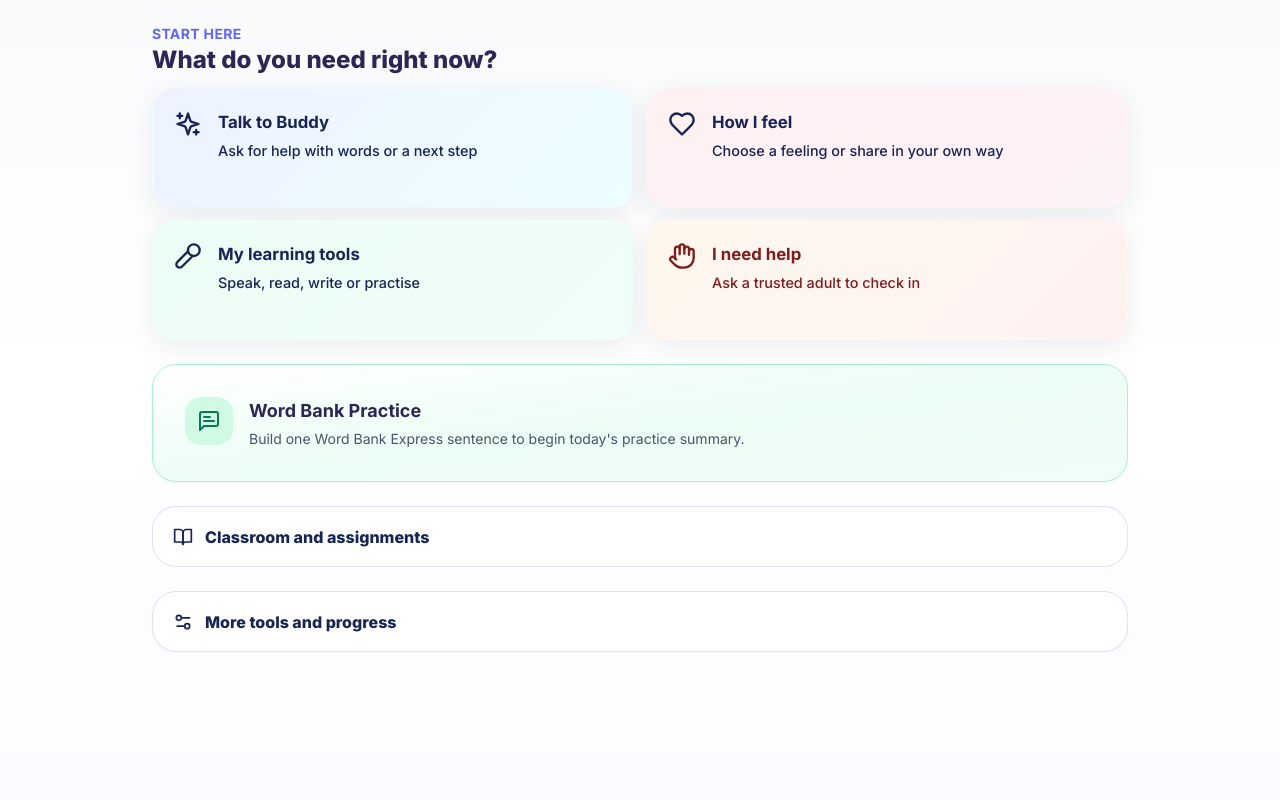
switching accounts closes the old tracing tool without awarding the new child
Click the heading "More tools and progress": (285, 622) left=173, top=612, right=396, bottom=632
(page scrolled)
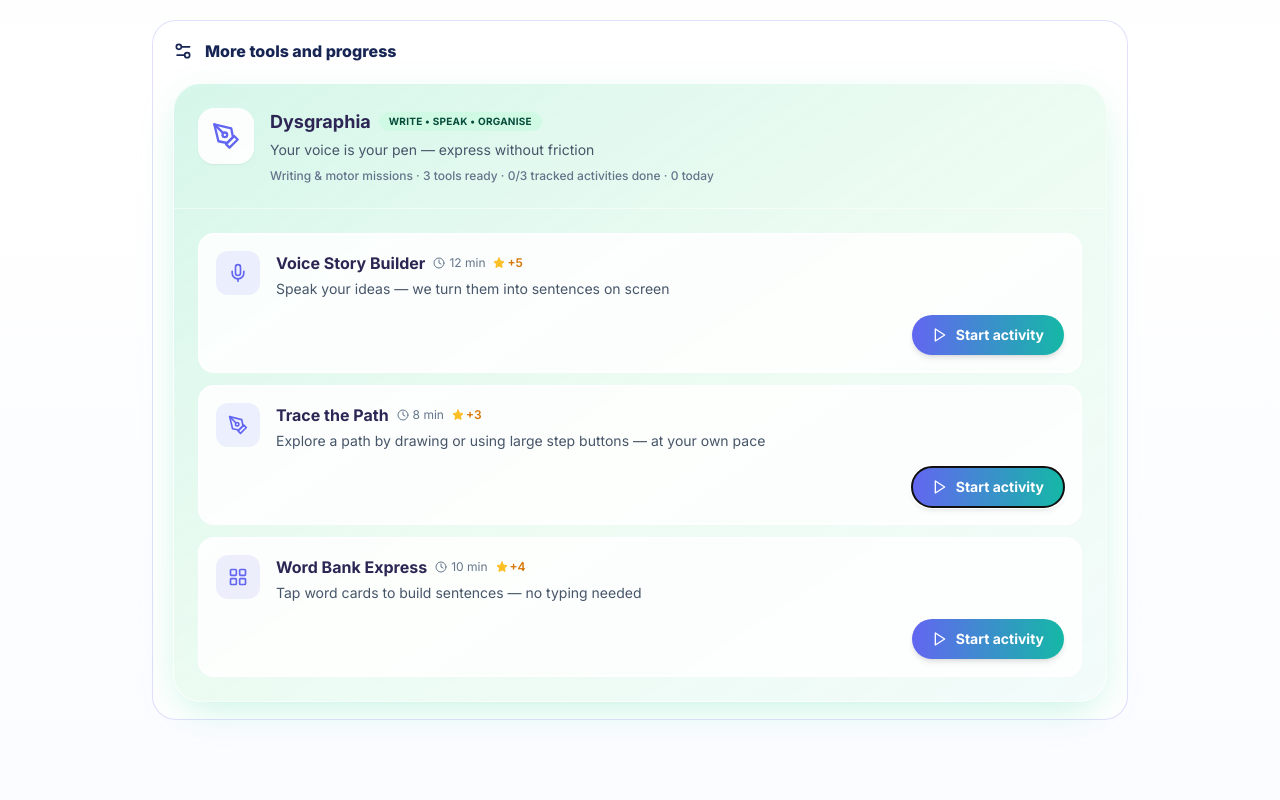
Click the 2nd button "Start activity": (988, 487) left=912, top=467, right=1064, bottom=507
(page scrolled)
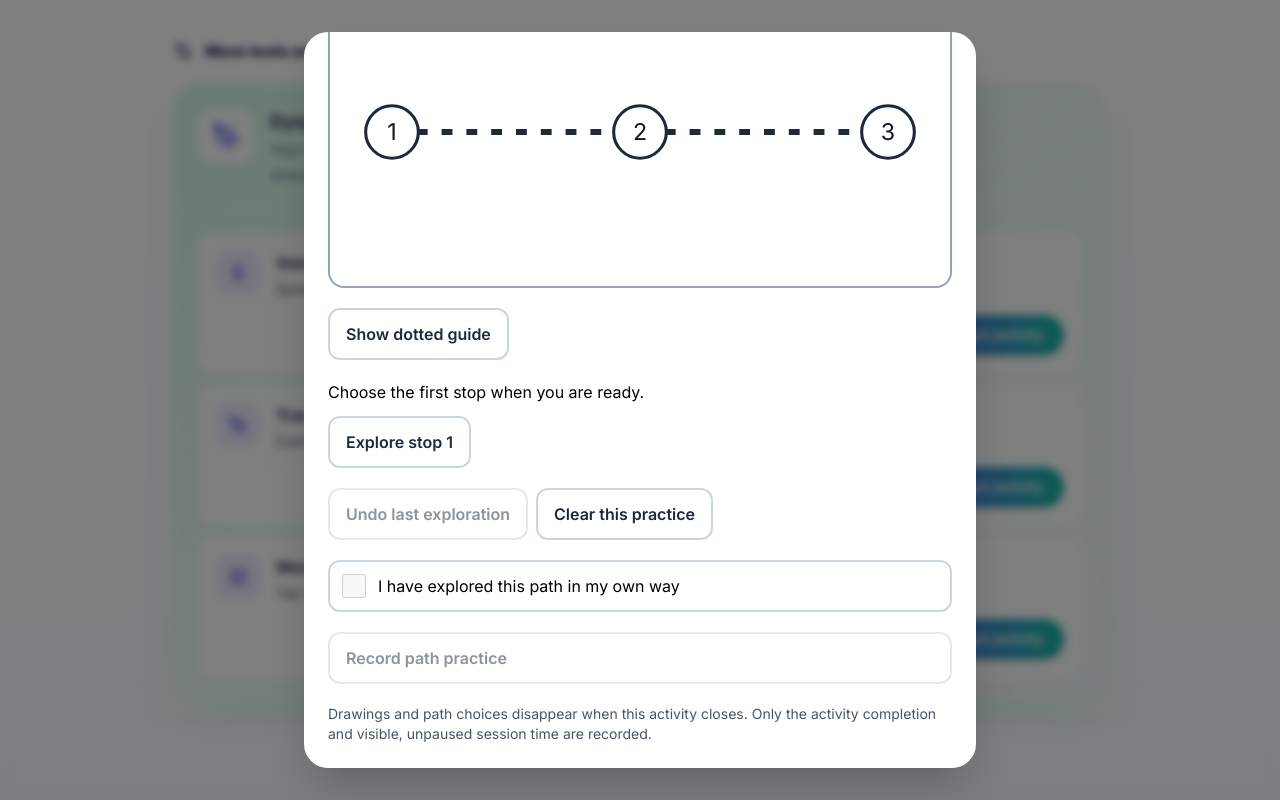
Check: the dialog is shown, box left=304, top=32, right=976, bottom=768
Click the button "Explore stop 1": (400, 442) left=328, top=416, right=471, bottom=468
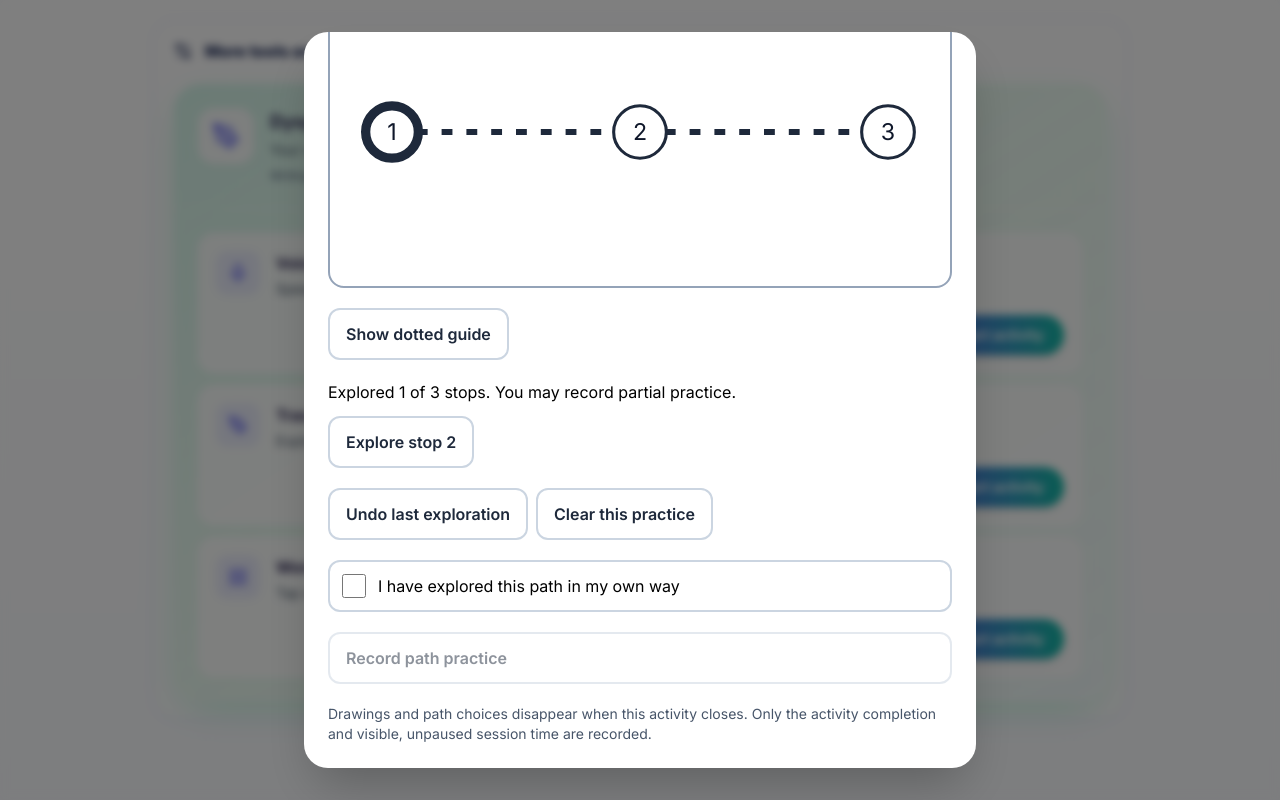
Click the checkbox: (354, 586) left=342, top=574, right=366, bottom=598
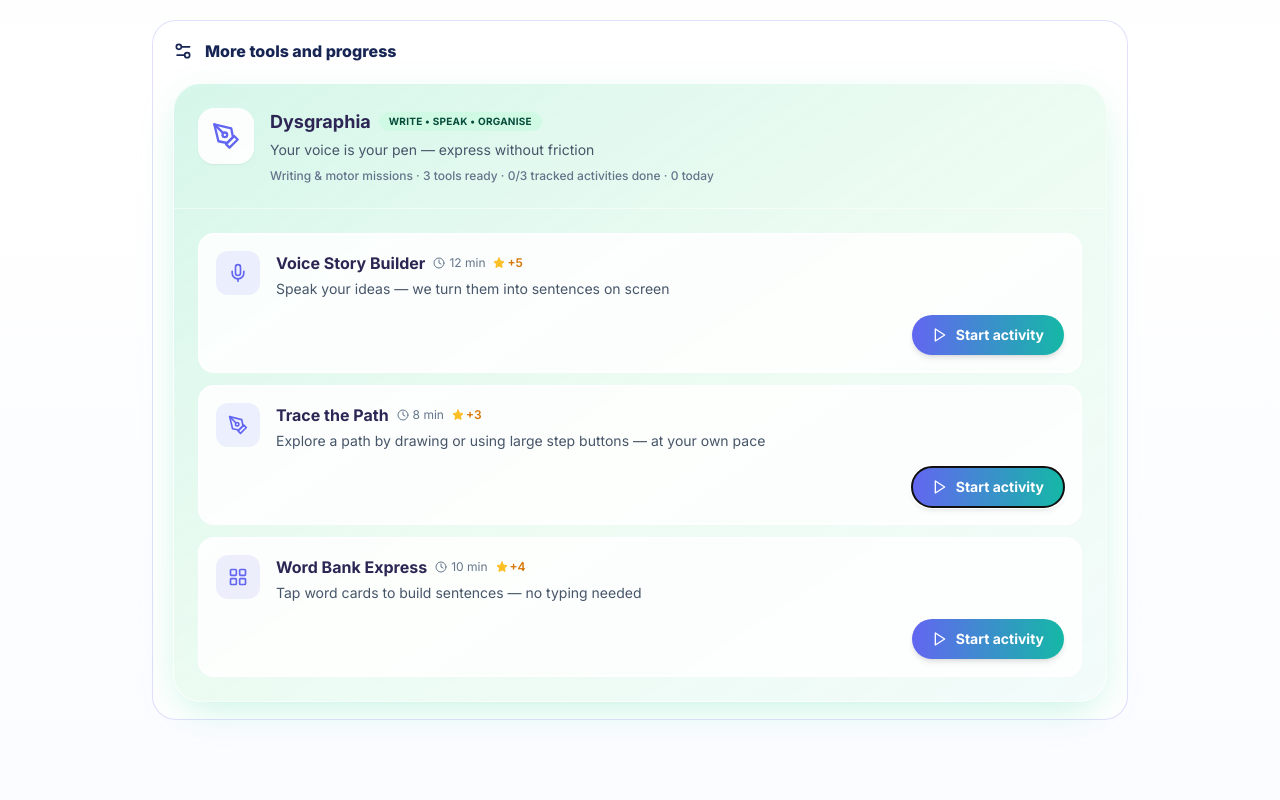
Check: the dialog is gone
